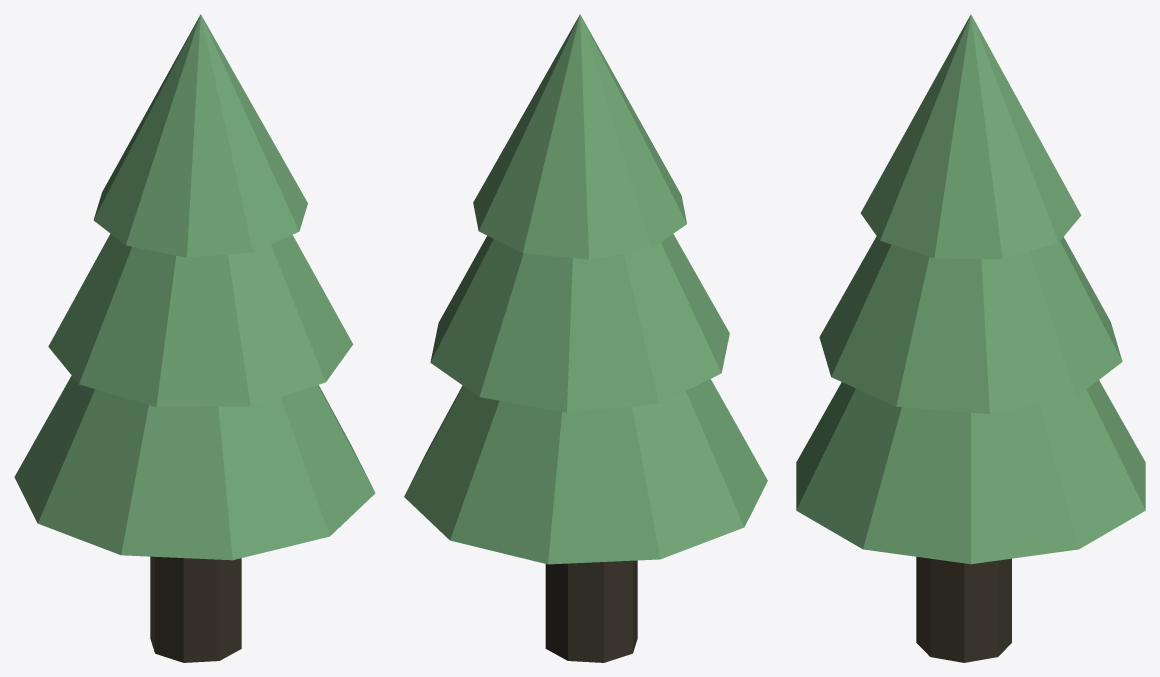
The model's file is Evergreen.fbx.
3 renders of one model, left to right at view 1: azimuth 30°, elevation 25°; view 2: azimuth 150°, elevation 25°; view 3: azimuth 270°, elevation 25°, orthographic.
Parts seen in each view (by area): view 1: Evergreen; view 2: Evergreen; view 3: Evergreen.
Part boxes in pixels (x1,y1,x2,y2): Evergreen: (14, 14, 375, 662); Evergreen: (404, 14, 767, 662); Evergreen: (796, 14, 1145, 662).
Bounding box in the file's own units: 4.19 × 7.96 × 3.98.
1 material, 1 textured.
